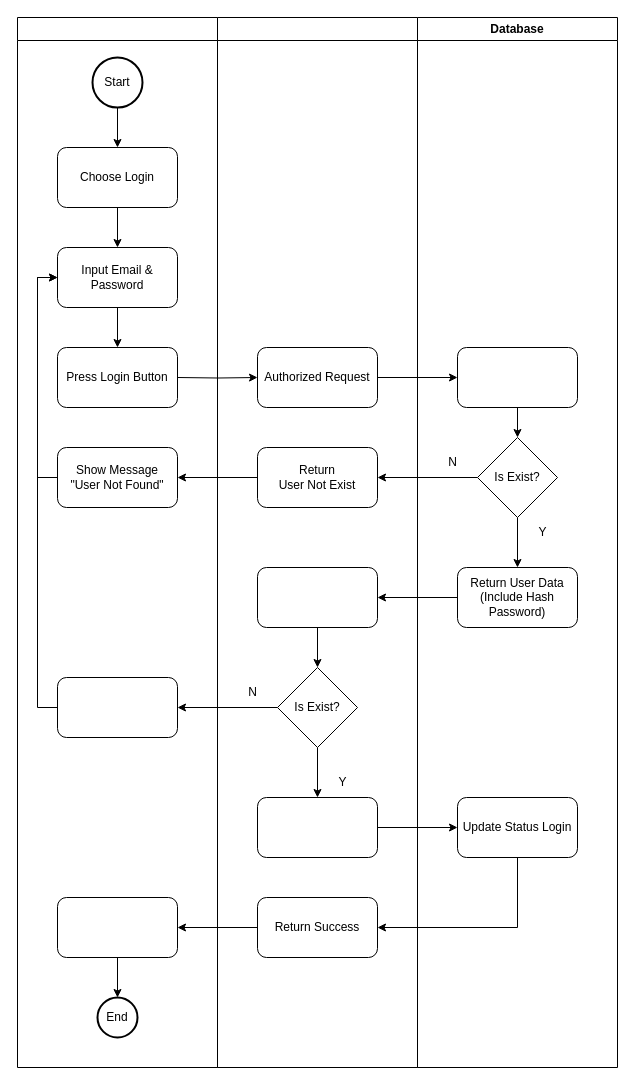
Image size: 635x1085. Some labels were removed from this diagram. Each missing label, with the box of its shape:
Auth Service: (216, 16, 418, 1068)
Compare Password: (256, 566, 378, 628)
Create Token: (256, 796, 378, 858)
Get User Data: (456, 346, 578, 408)
Mobile App: (16, 16, 218, 1068)
Show Main Screen: (56, 896, 178, 958)
Show Message "Wrong Password": (56, 676, 178, 738)
